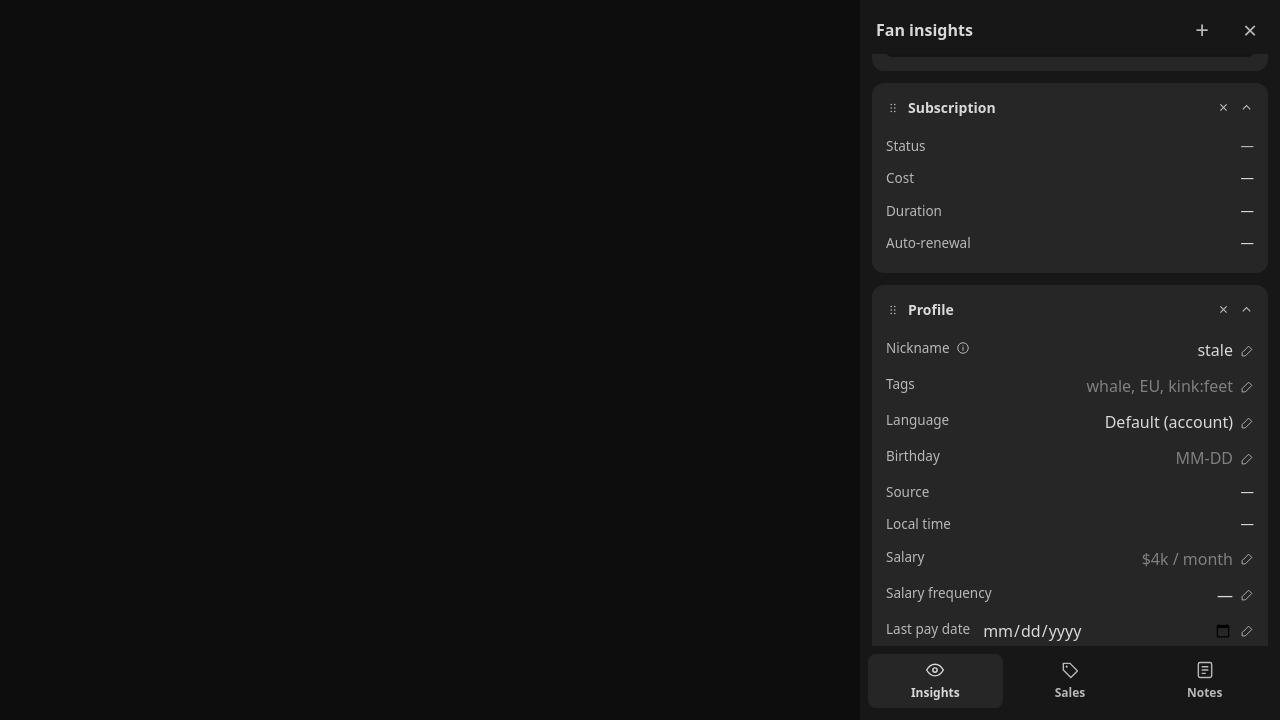
FanDrawer edit-freshness › re-reads again once the stale window passes (pinned drawer, open all day)
The width and height of the screenshot is (1280, 720).
(page scrolled)
Click the field with placeholder "Fan Seven". click: x=1107, y=350
box: [982,338,1233,362]
(page scrolled)
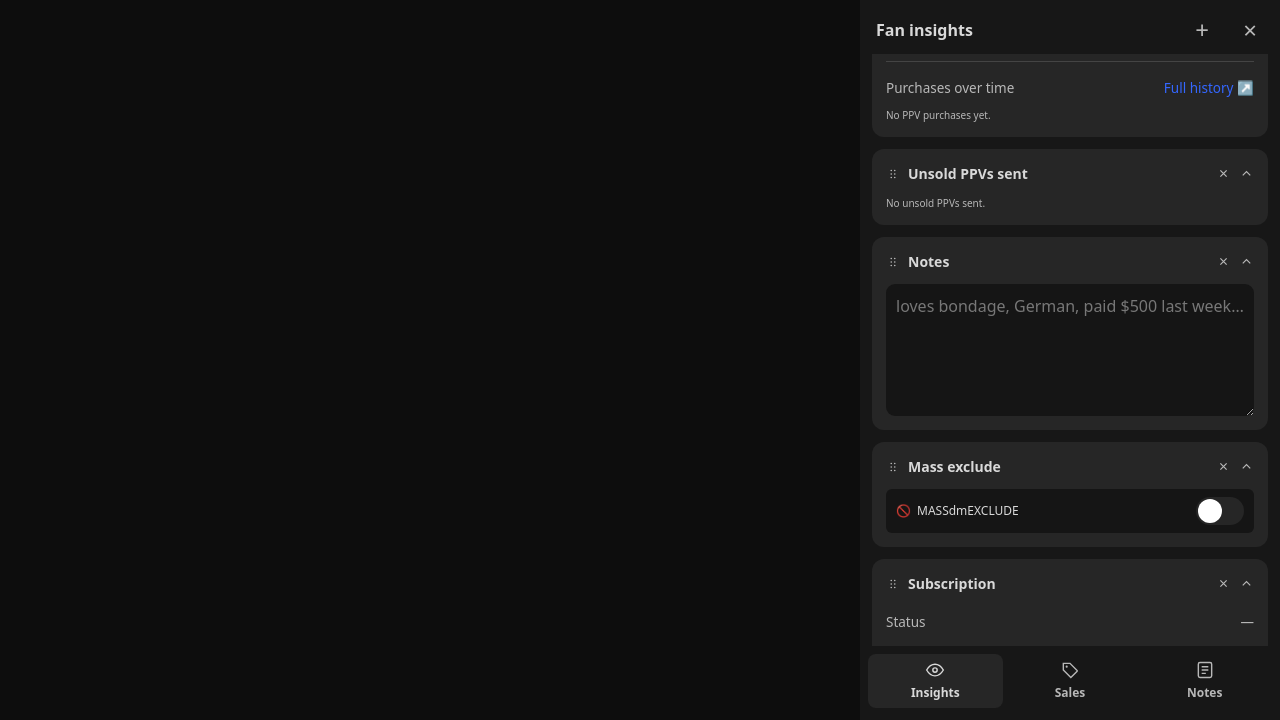
Click the text box with placeholder "loves bondage, German, paid $500 last week…". click: x=1070, y=350
box: [886,284,1254,416]
(page scrolled)
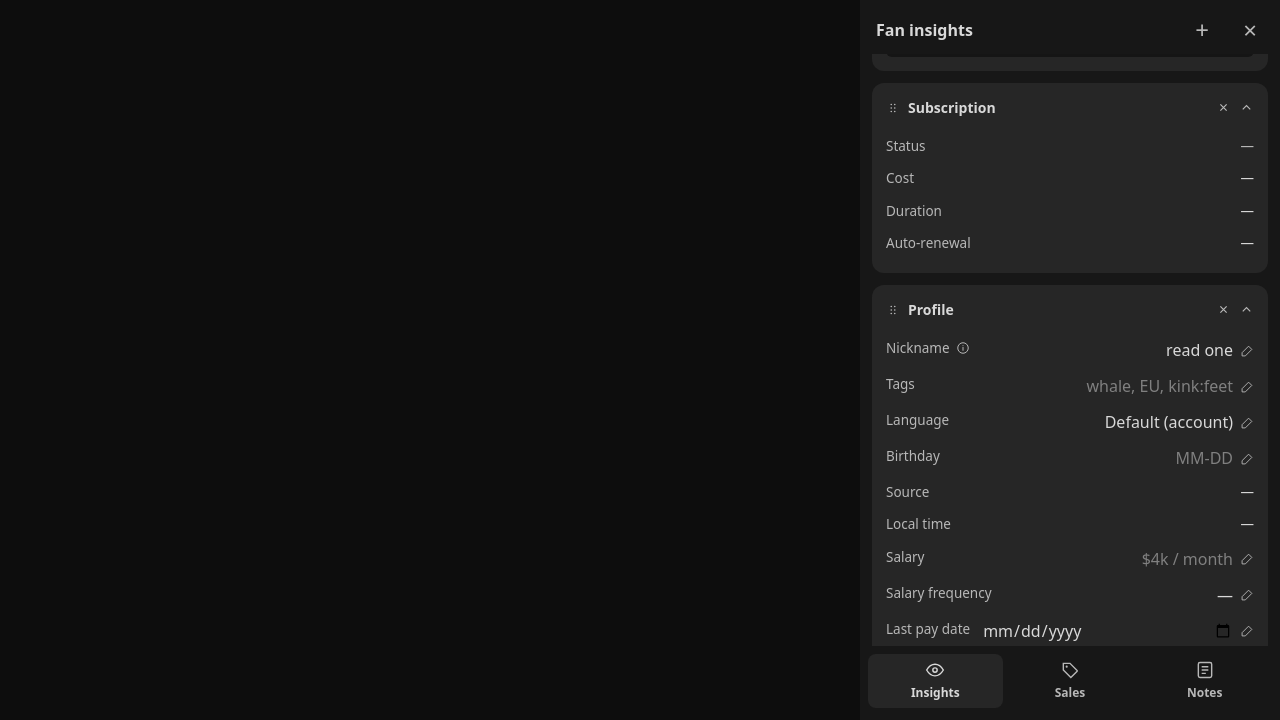
Click the field with placeholder "Fan Seven". click: x=1107, y=350
box: [982,338,1233,362]
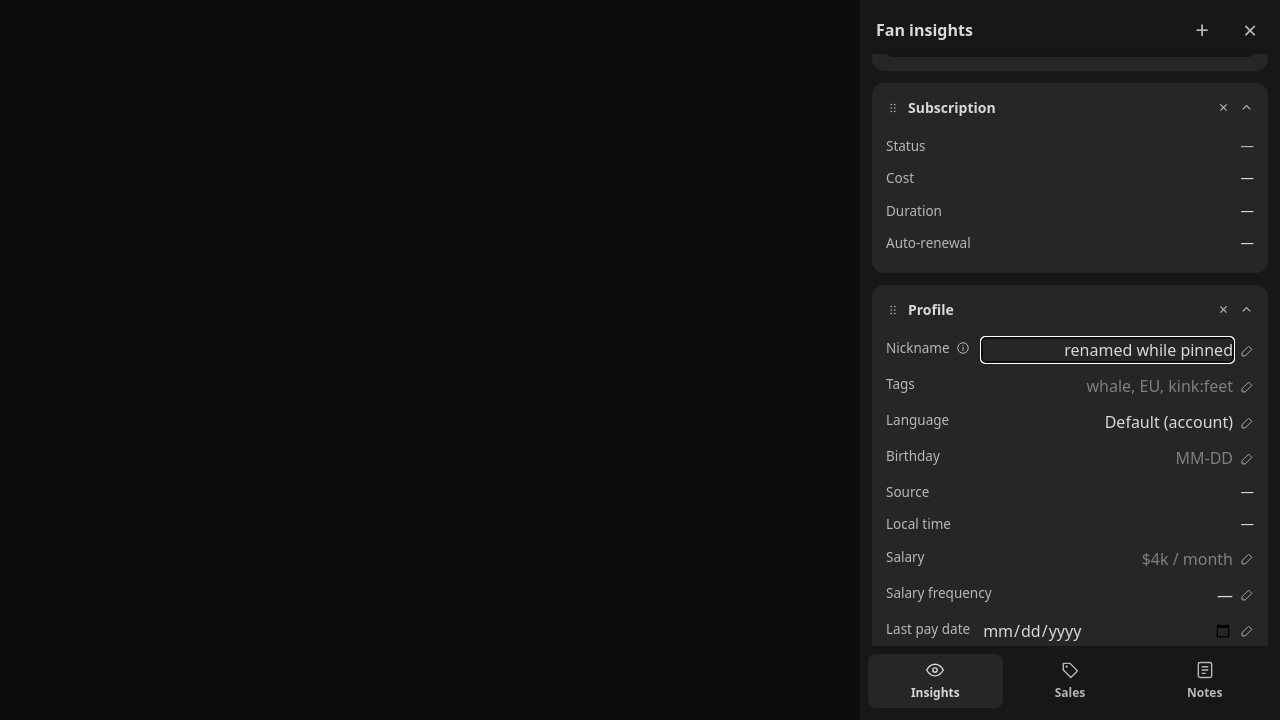
expect the field with placeholder "Fan Seven" holds "renamed while pinned": met, box [982,338,1233,362]
